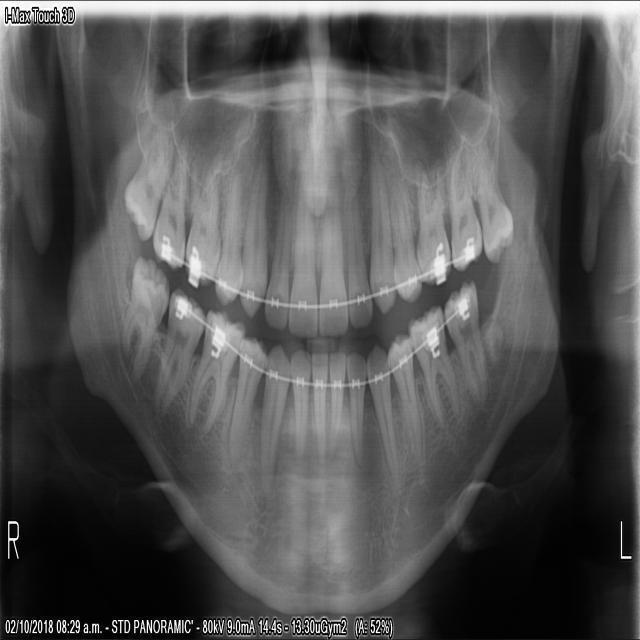LCD: (365, 340, 399, 483)
LCU: (363, 138, 396, 318)
LID: (346, 352, 366, 467), (329, 347, 346, 460)
LIU: (341, 144, 374, 334), (316, 143, 348, 337)
LMD: (408, 300, 461, 438), (444, 273, 493, 413)
LMU: (469, 137, 516, 275), (414, 155, 453, 297), (444, 150, 484, 283)
LPMD: (387, 329, 423, 468)
LPMU: (387, 138, 424, 305)
RCD: (259, 335, 290, 493)
RCU: (238, 144, 268, 319)
RID: (289, 349, 312, 458), (311, 350, 331, 467)
RIU: (287, 143, 317, 340), (262, 145, 293, 332)
RMD: (187, 303, 246, 435), (153, 284, 203, 420), (120, 254, 171, 380)
RMU: (121, 127, 176, 250), (183, 139, 222, 289), (150, 142, 192, 272)
RPMD: (227, 330, 268, 470)
RPMU: (214, 147, 244, 305)
